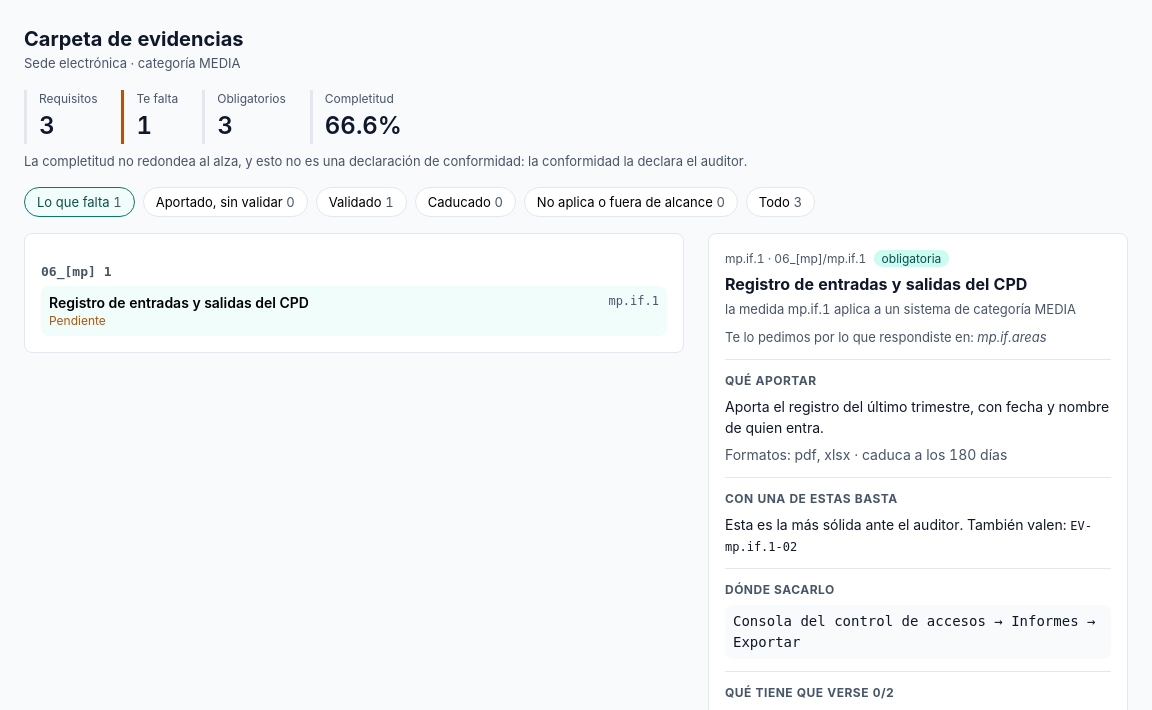
Test: CarpetaEvidenciasView › lo que ya cubre otra alternativa no cuenta como hueco
The image size is (1152, 710).
Check: the number of buttons with class "requisito" is 1, box [41,286,667,336]
Click the button with class "filtro" showing "Todo 3" at (780, 202), box [746,187,815,217]
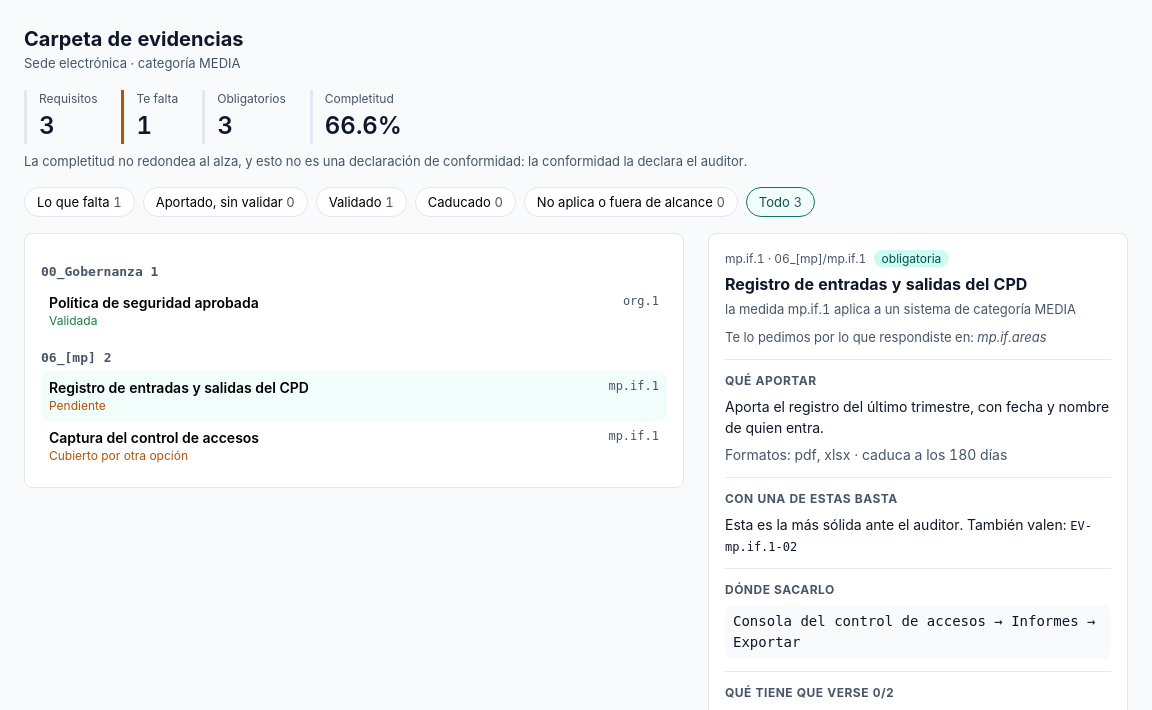
Check: the number of buttons with class "requisito" is 3, box [41,286,667,336]; [41,371,667,421]; [41,421,667,471]
Check: the text "Cubierto por otra opción" is shown, box [49,448,188,463]
